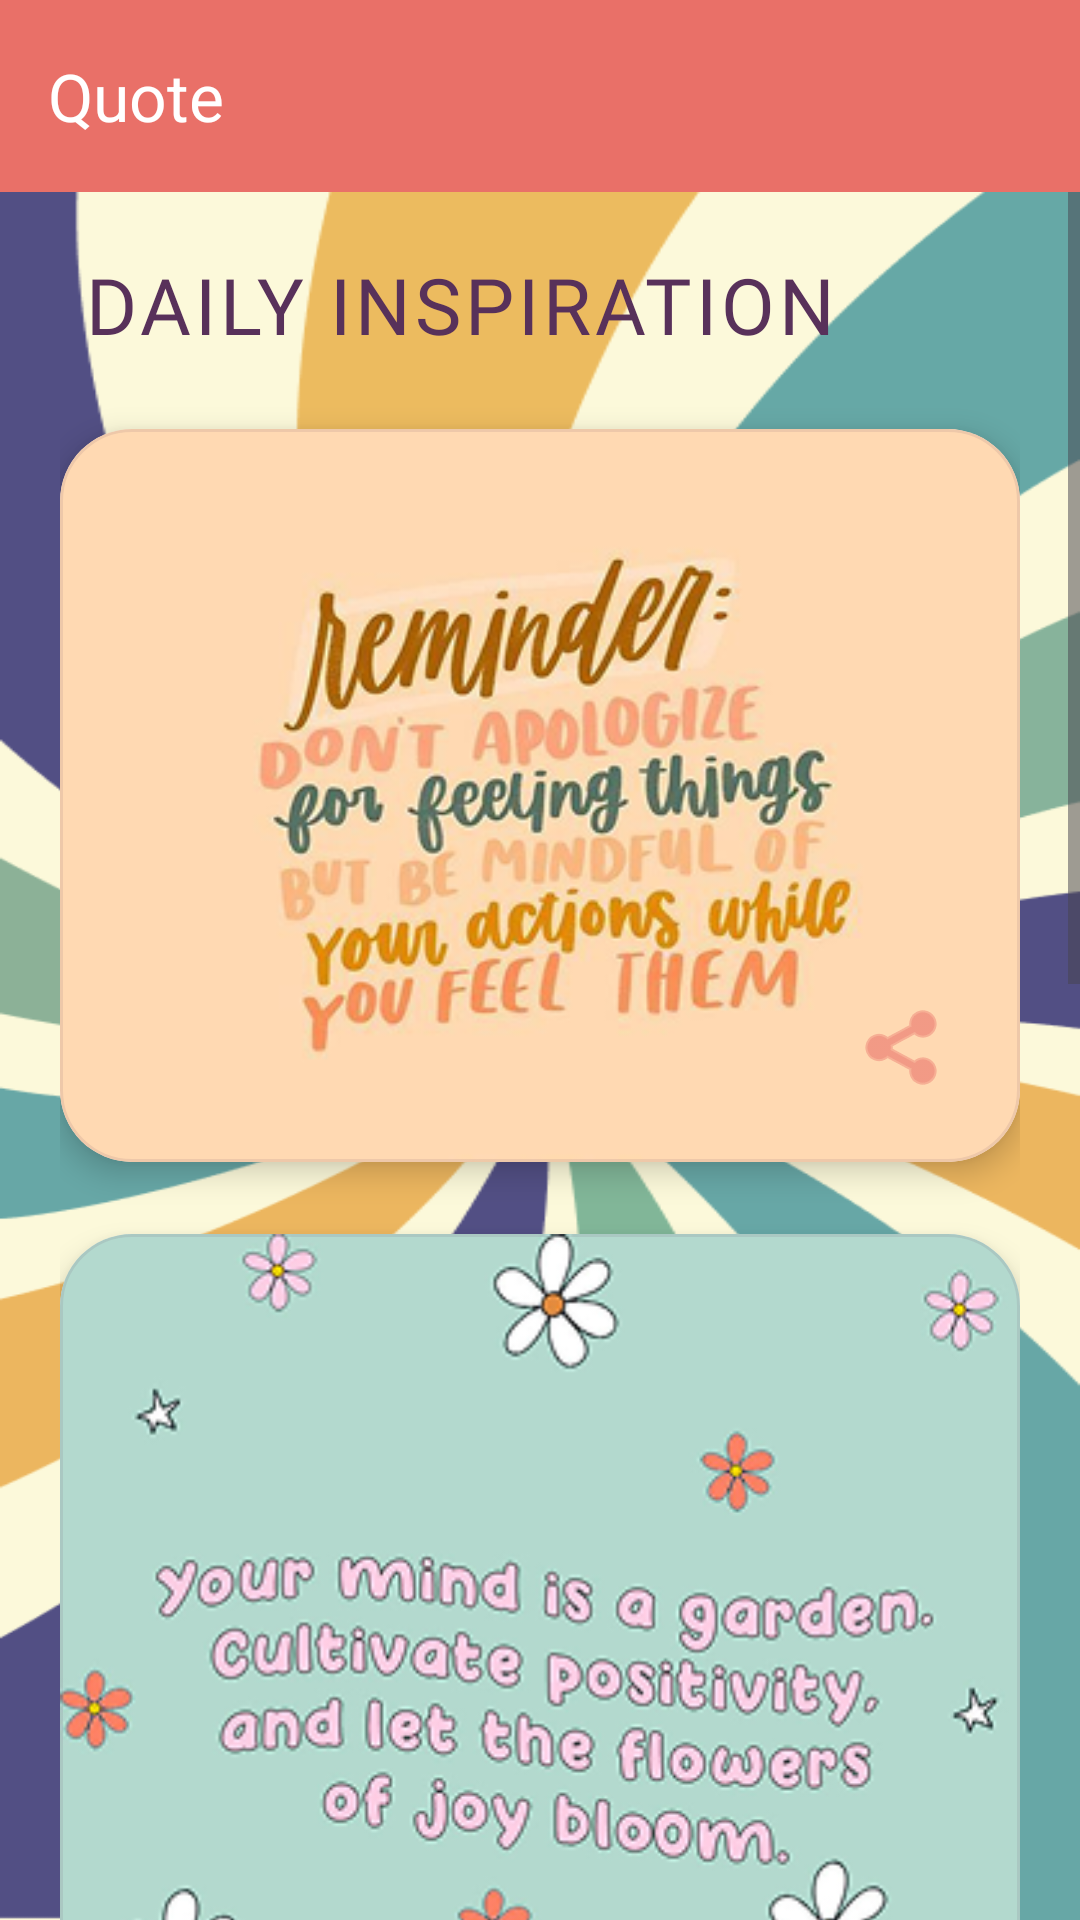

Named icons in this screenshot (1080w x 1920h) and their bounding boxes, (x1, y1, x2, y2):
share: (865, 1010, 937, 1085)
